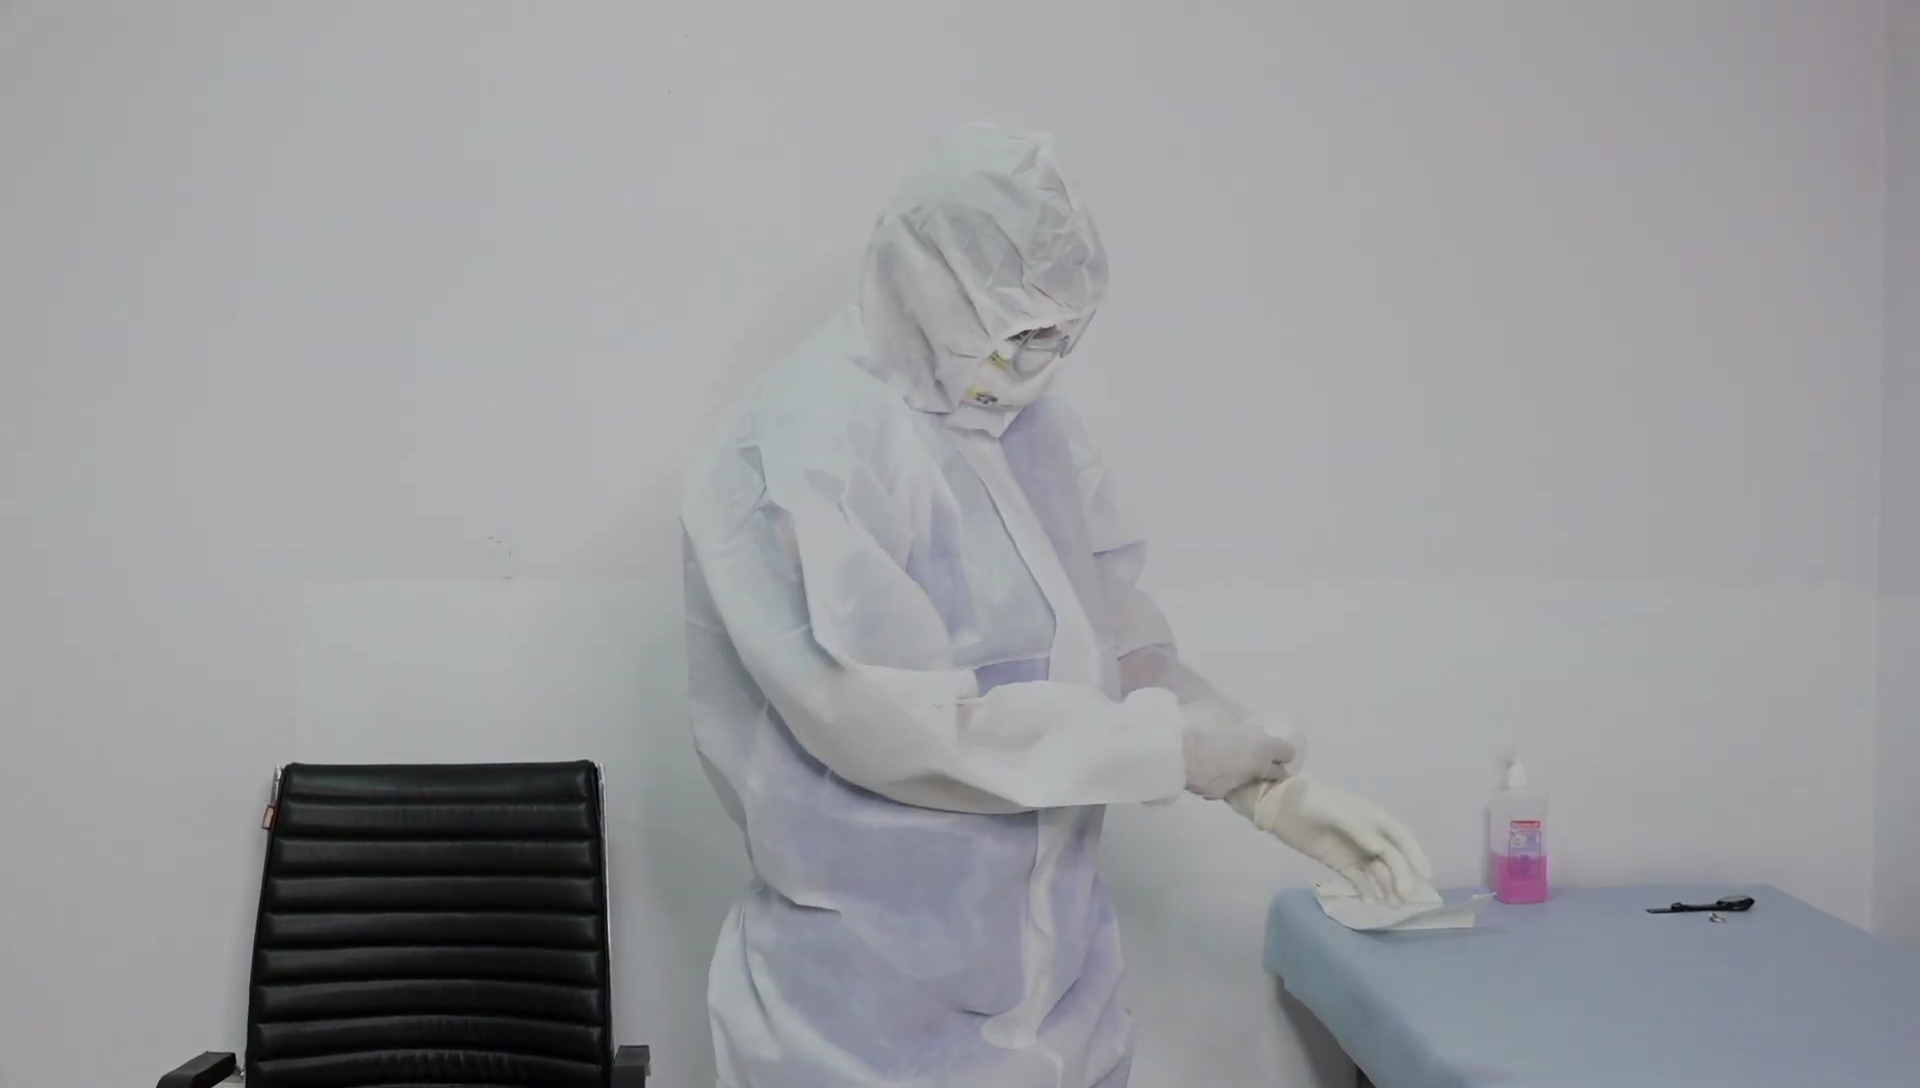Coverall: (682, 130, 1264, 1086)
Gloves: (1262, 780, 1438, 913), (1183, 700, 1307, 800)
Goggles: (997, 308, 1100, 378)
with_mask: (959, 346, 1064, 412)
